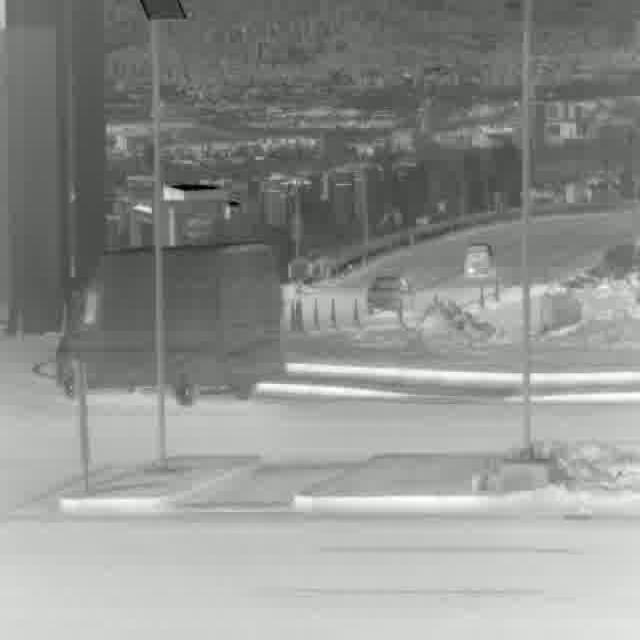Car: (54, 243, 278, 397), (367, 274, 414, 314), (463, 238, 495, 279)
